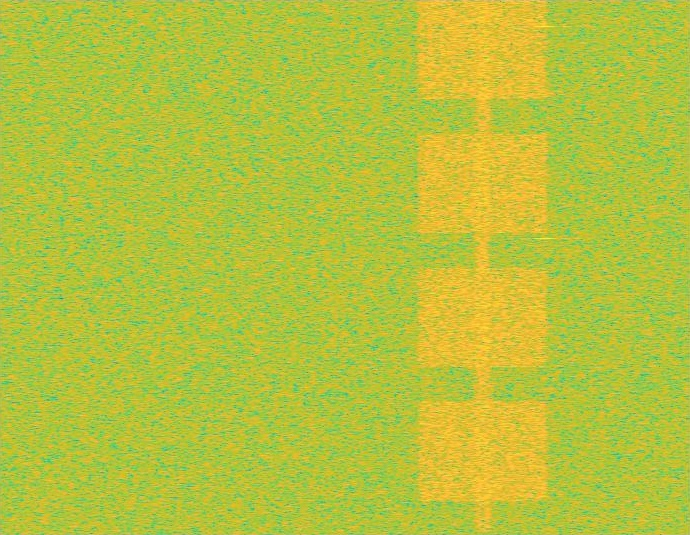5G: (414, 0, 552, 534)
DSSS: (474, 0, 492, 534)
Radar: (538, 0, 552, 534)
